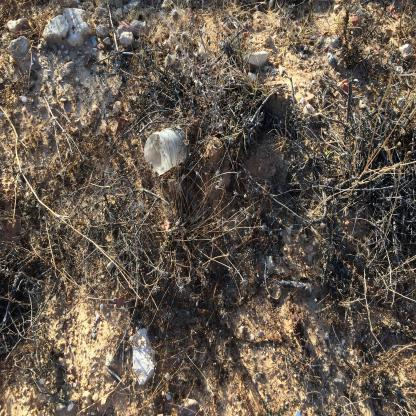plastik: (144, 124, 191, 178)
